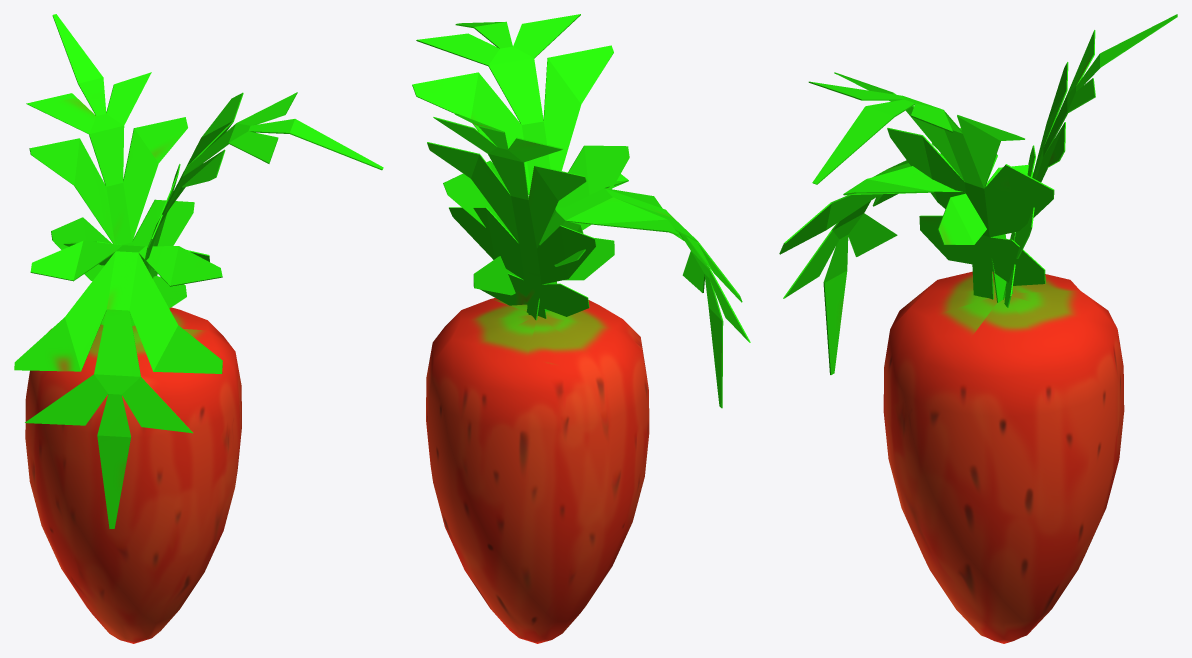
The model's file is mor_01.fbx.
3 renders of one model, left to right at view 1: azimuth 30°, elevation 25°; view 2: azimuth 150°, elevation 25°; view 3: azimuth 270°, elevation 25°, orthographic. The views are drawn at different scales.
Visible parts, largest first — view 1: Cylinder; view 2: Cylinder; view 3: Cylinder.
Boxes of the visible parts, left/top/right/bottom form: Cylinder: left=14, top=14, right=383, bottom=643; Cylinder: left=412, top=14, right=750, bottom=643; Cylinder: left=779, top=14, right=1177, bottom=643.
Size of the model in its own units: 306 by 517 by 297.
Materials: 1 (1 with a texture image).
